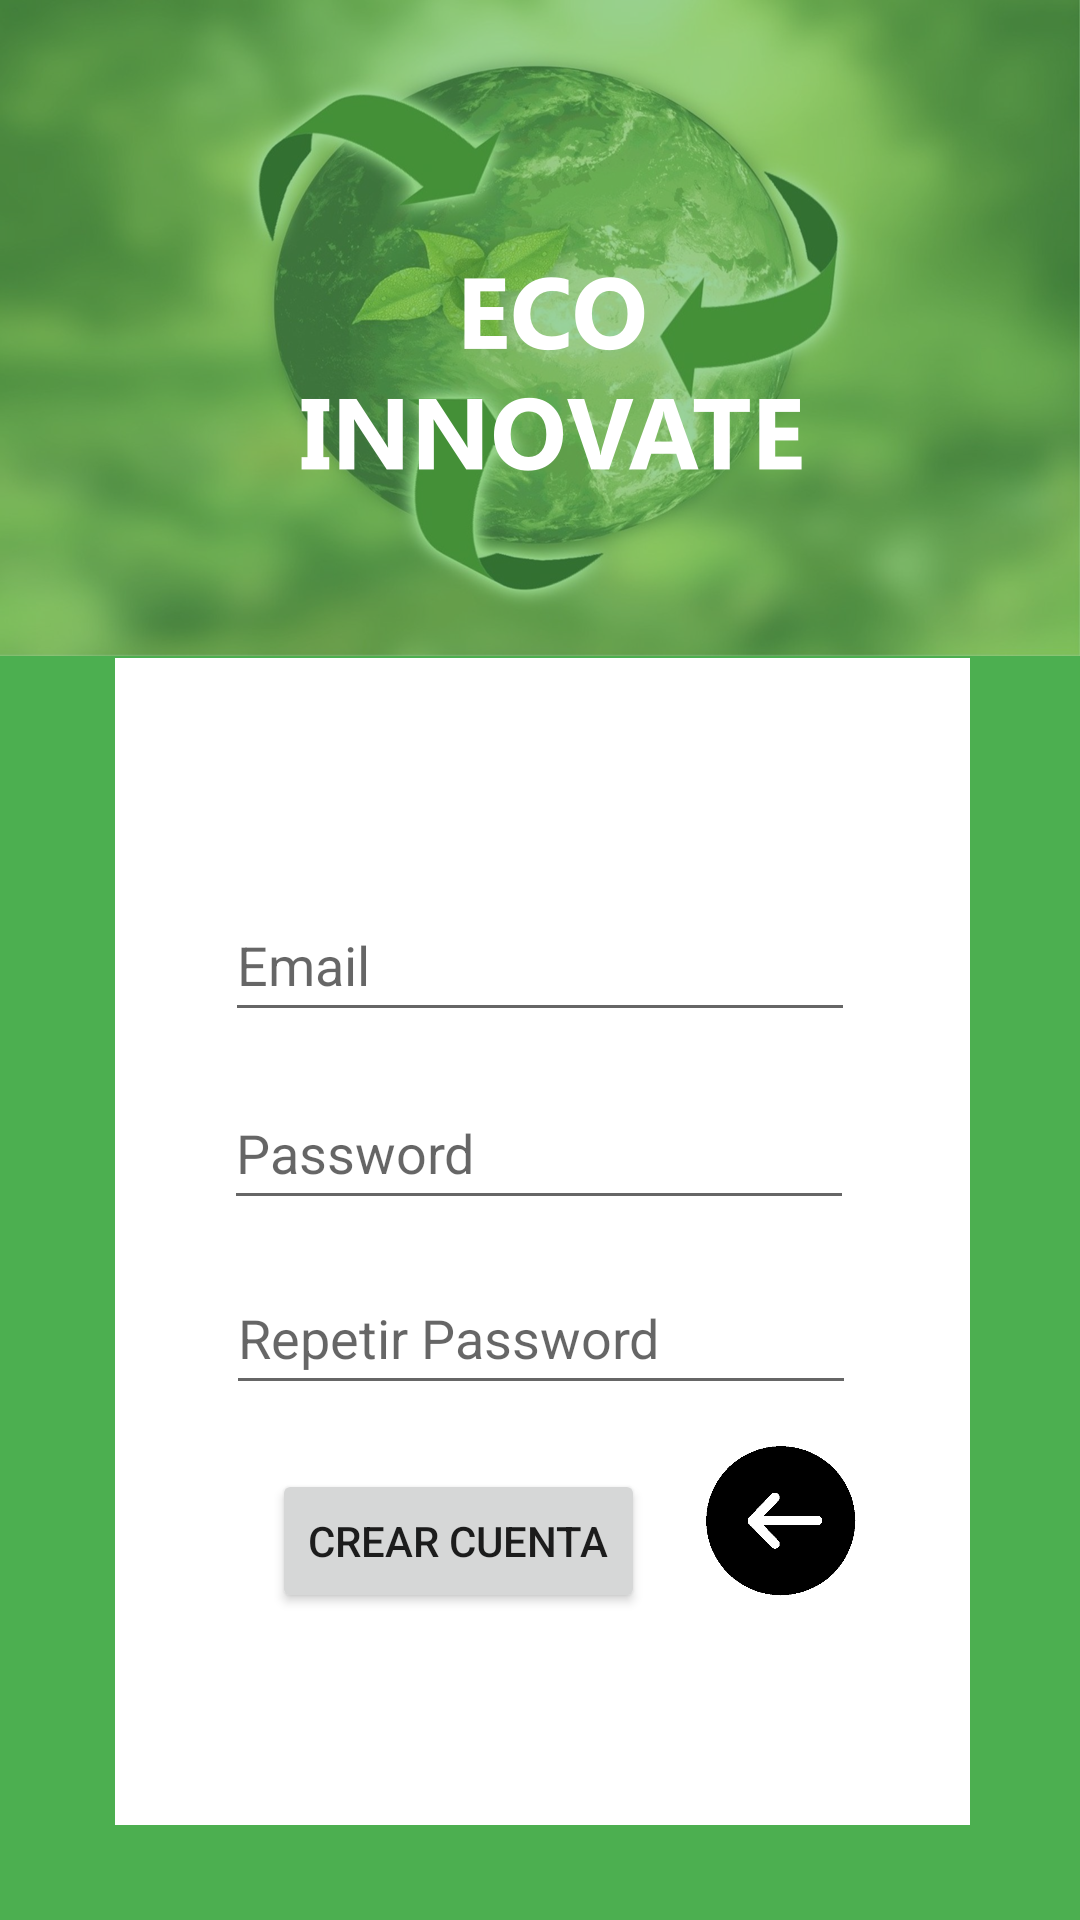

Where to tap for icons on this 1080 × 1920 app screen, as (x=x, y=y):
flechanegro: (x=781, y=1521)
